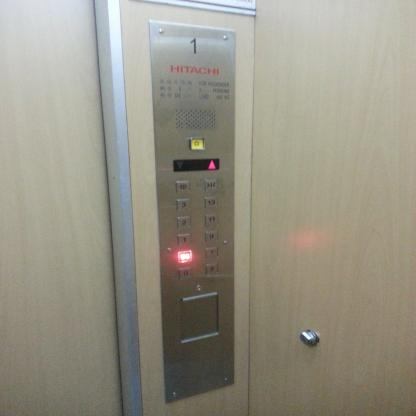1: (176, 232, 193, 247)
11: (204, 212, 219, 227)
13: (204, 196, 219, 210)
2: (176, 215, 192, 230)
3: (176, 198, 191, 213)
5: (205, 261, 219, 277)
7: (204, 245, 218, 260)
9: (204, 229, 218, 244)
G: (177, 266, 192, 282)
UG: (178, 249, 192, 265)
alarm: (189, 136, 205, 152)
close: (203, 178, 218, 192)
open: (175, 180, 191, 196)
